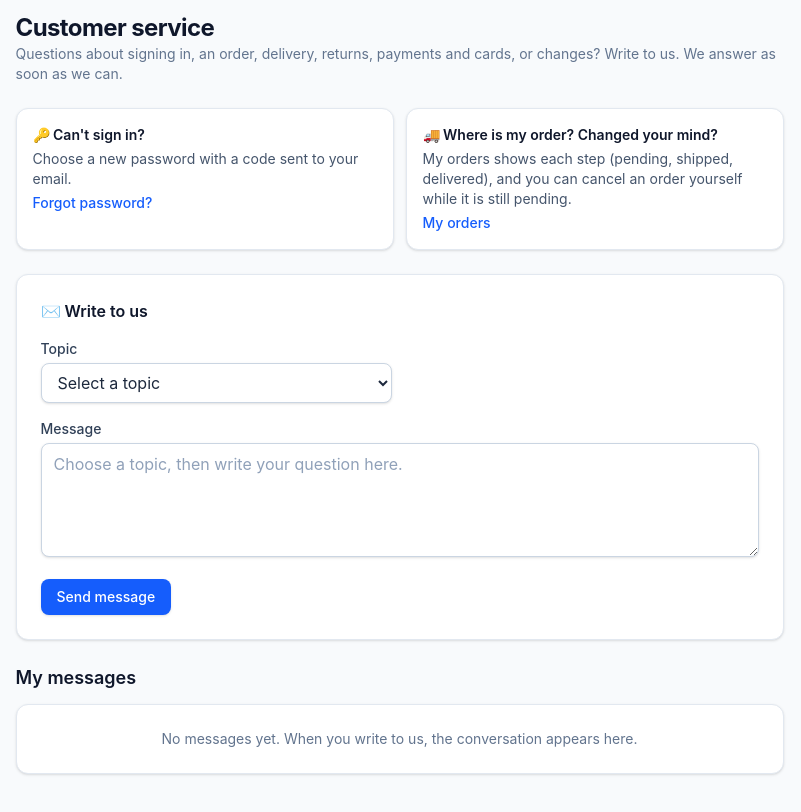
Test case: a server message for a field shows under that field
Select "Returns" in the dropdown labelled "Topic". click: [216, 383]
box: [40,363,392,403]
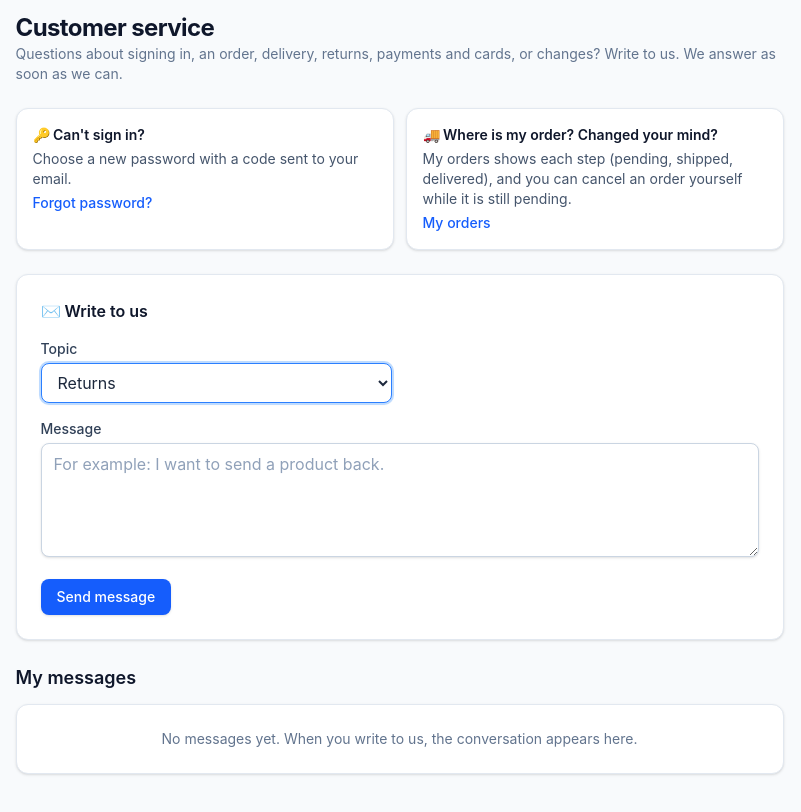
Type "I want to send a chair back." into the text box labelled "Message". click: [400, 500]
box: [40,443,758,557]
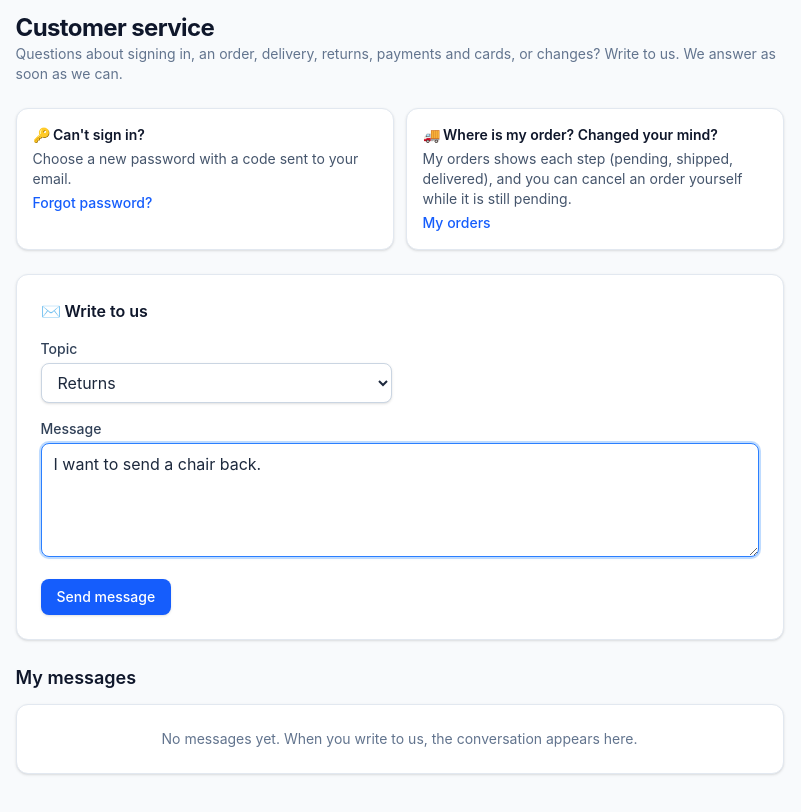
Click the button "Send message". click: [106, 597]
box: [40,579,171,615]
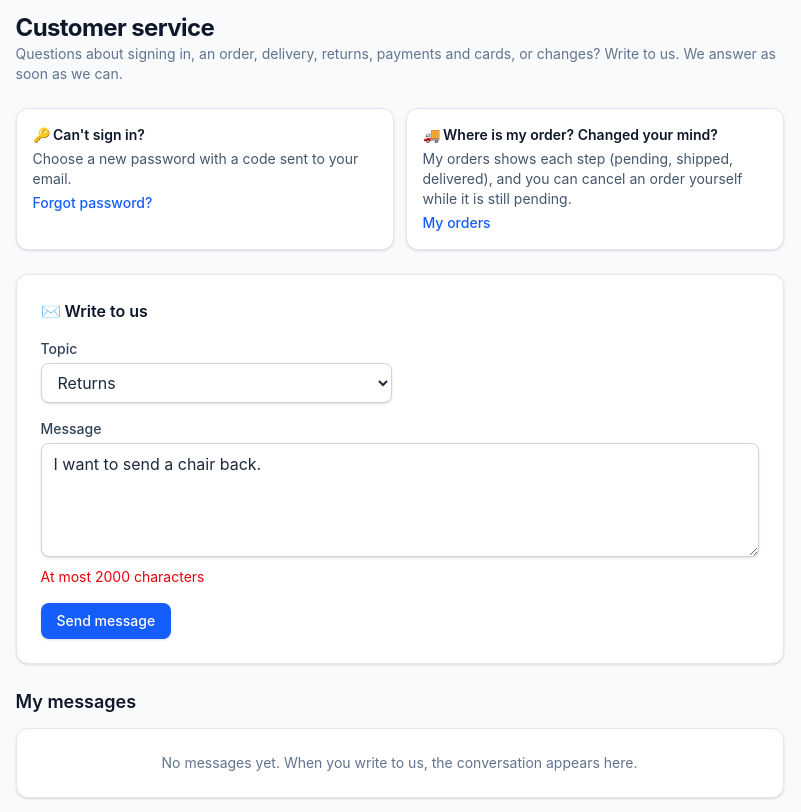
Result: the text "At most 2000 characters" is shown at [40,568,204,585]
